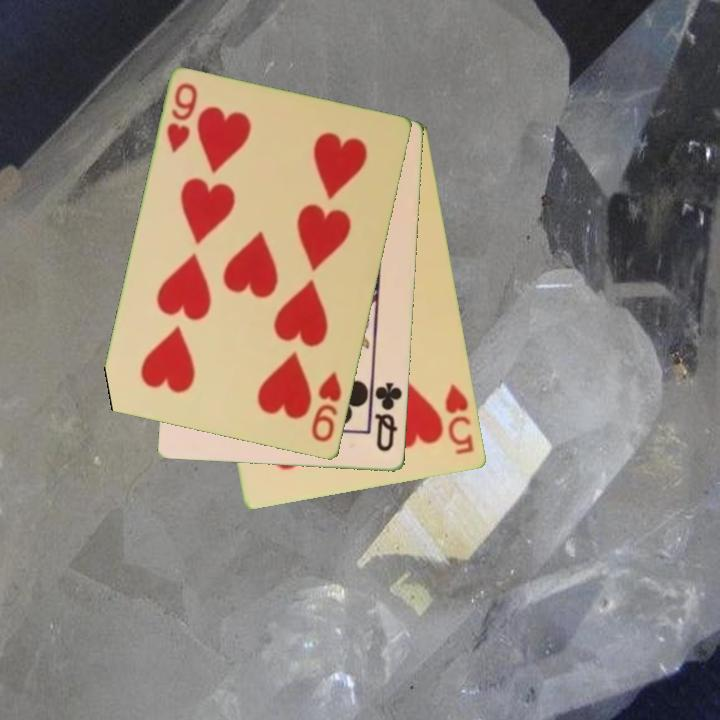5h: (442, 381, 477, 458)
9h: (163, 80, 201, 157), (308, 369, 345, 446)
Qc: (371, 379, 406, 455)
